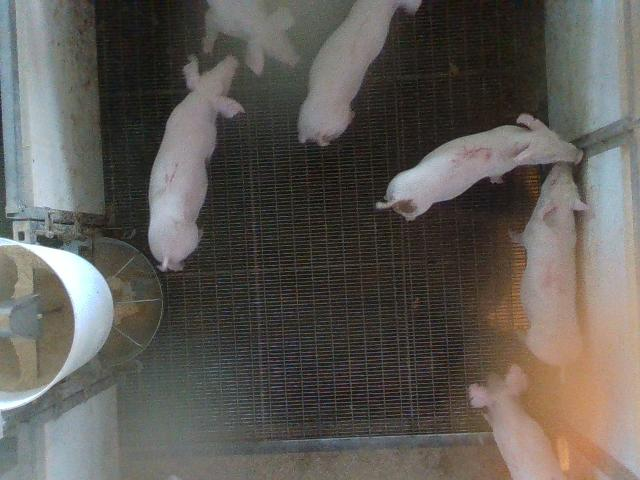pig-4: (510, 161, 588, 364)
pig-5: (376, 114, 582, 220)
